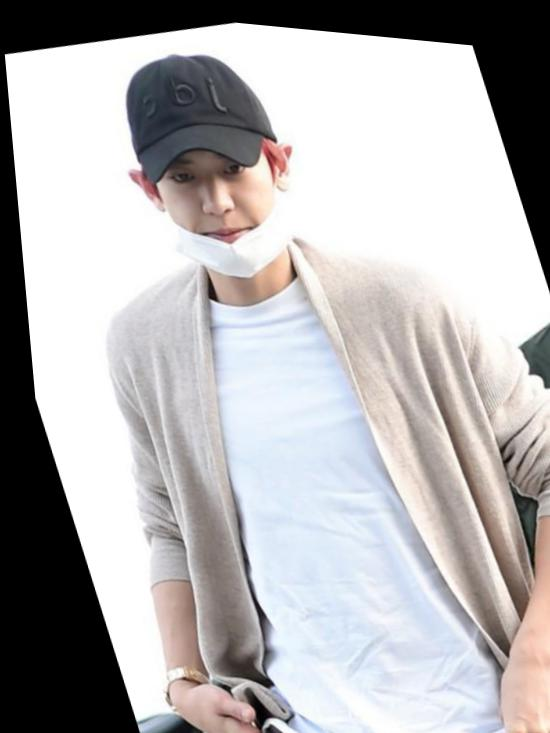WRONG: (140, 115, 298, 291)
